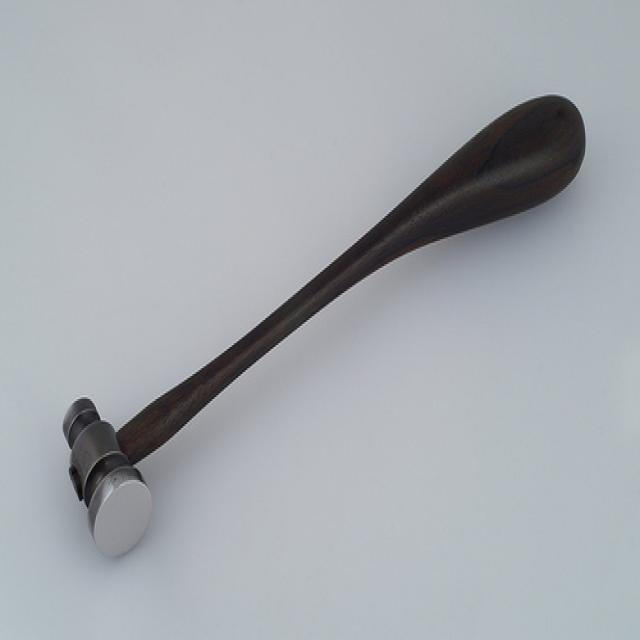hammer: (51, 77, 598, 567)
